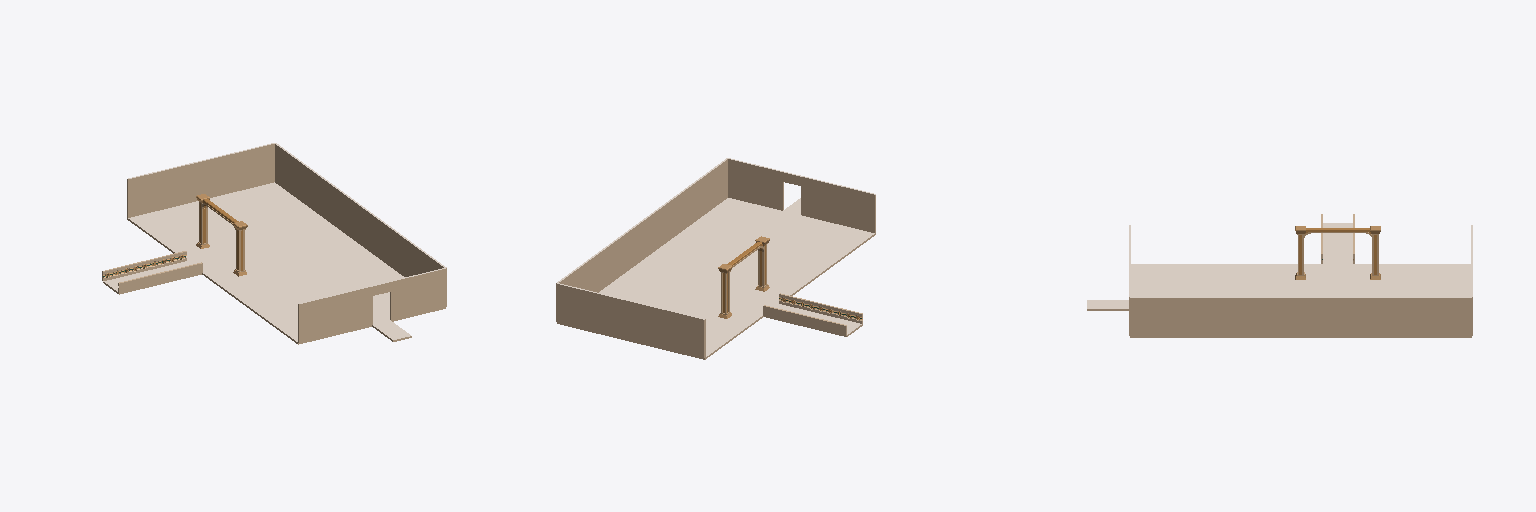
Rendered from main-room.obj.
3 views of the same model, side by side, from view 1: azimuth 30°, elevation 25°; view 2: azimuth 150°, elevation 25°; view 3: azimuth 270°, elevation 25° (orthographic).
Visible parts, largest first — view 1: mergedBlocks; view 2: mergedBlocks; view 3: mergedBlocks.
Boxes of the visible parts, x1,y1,x2,y2 form: mergedBlocks: [102, 143, 446, 344]; mergedBlocks: [556, 158, 875, 359]; mergedBlocks: [1087, 214, 1472, 337].
Bounding box in the file's own units: 25.1 × 5.35 × 36.1.